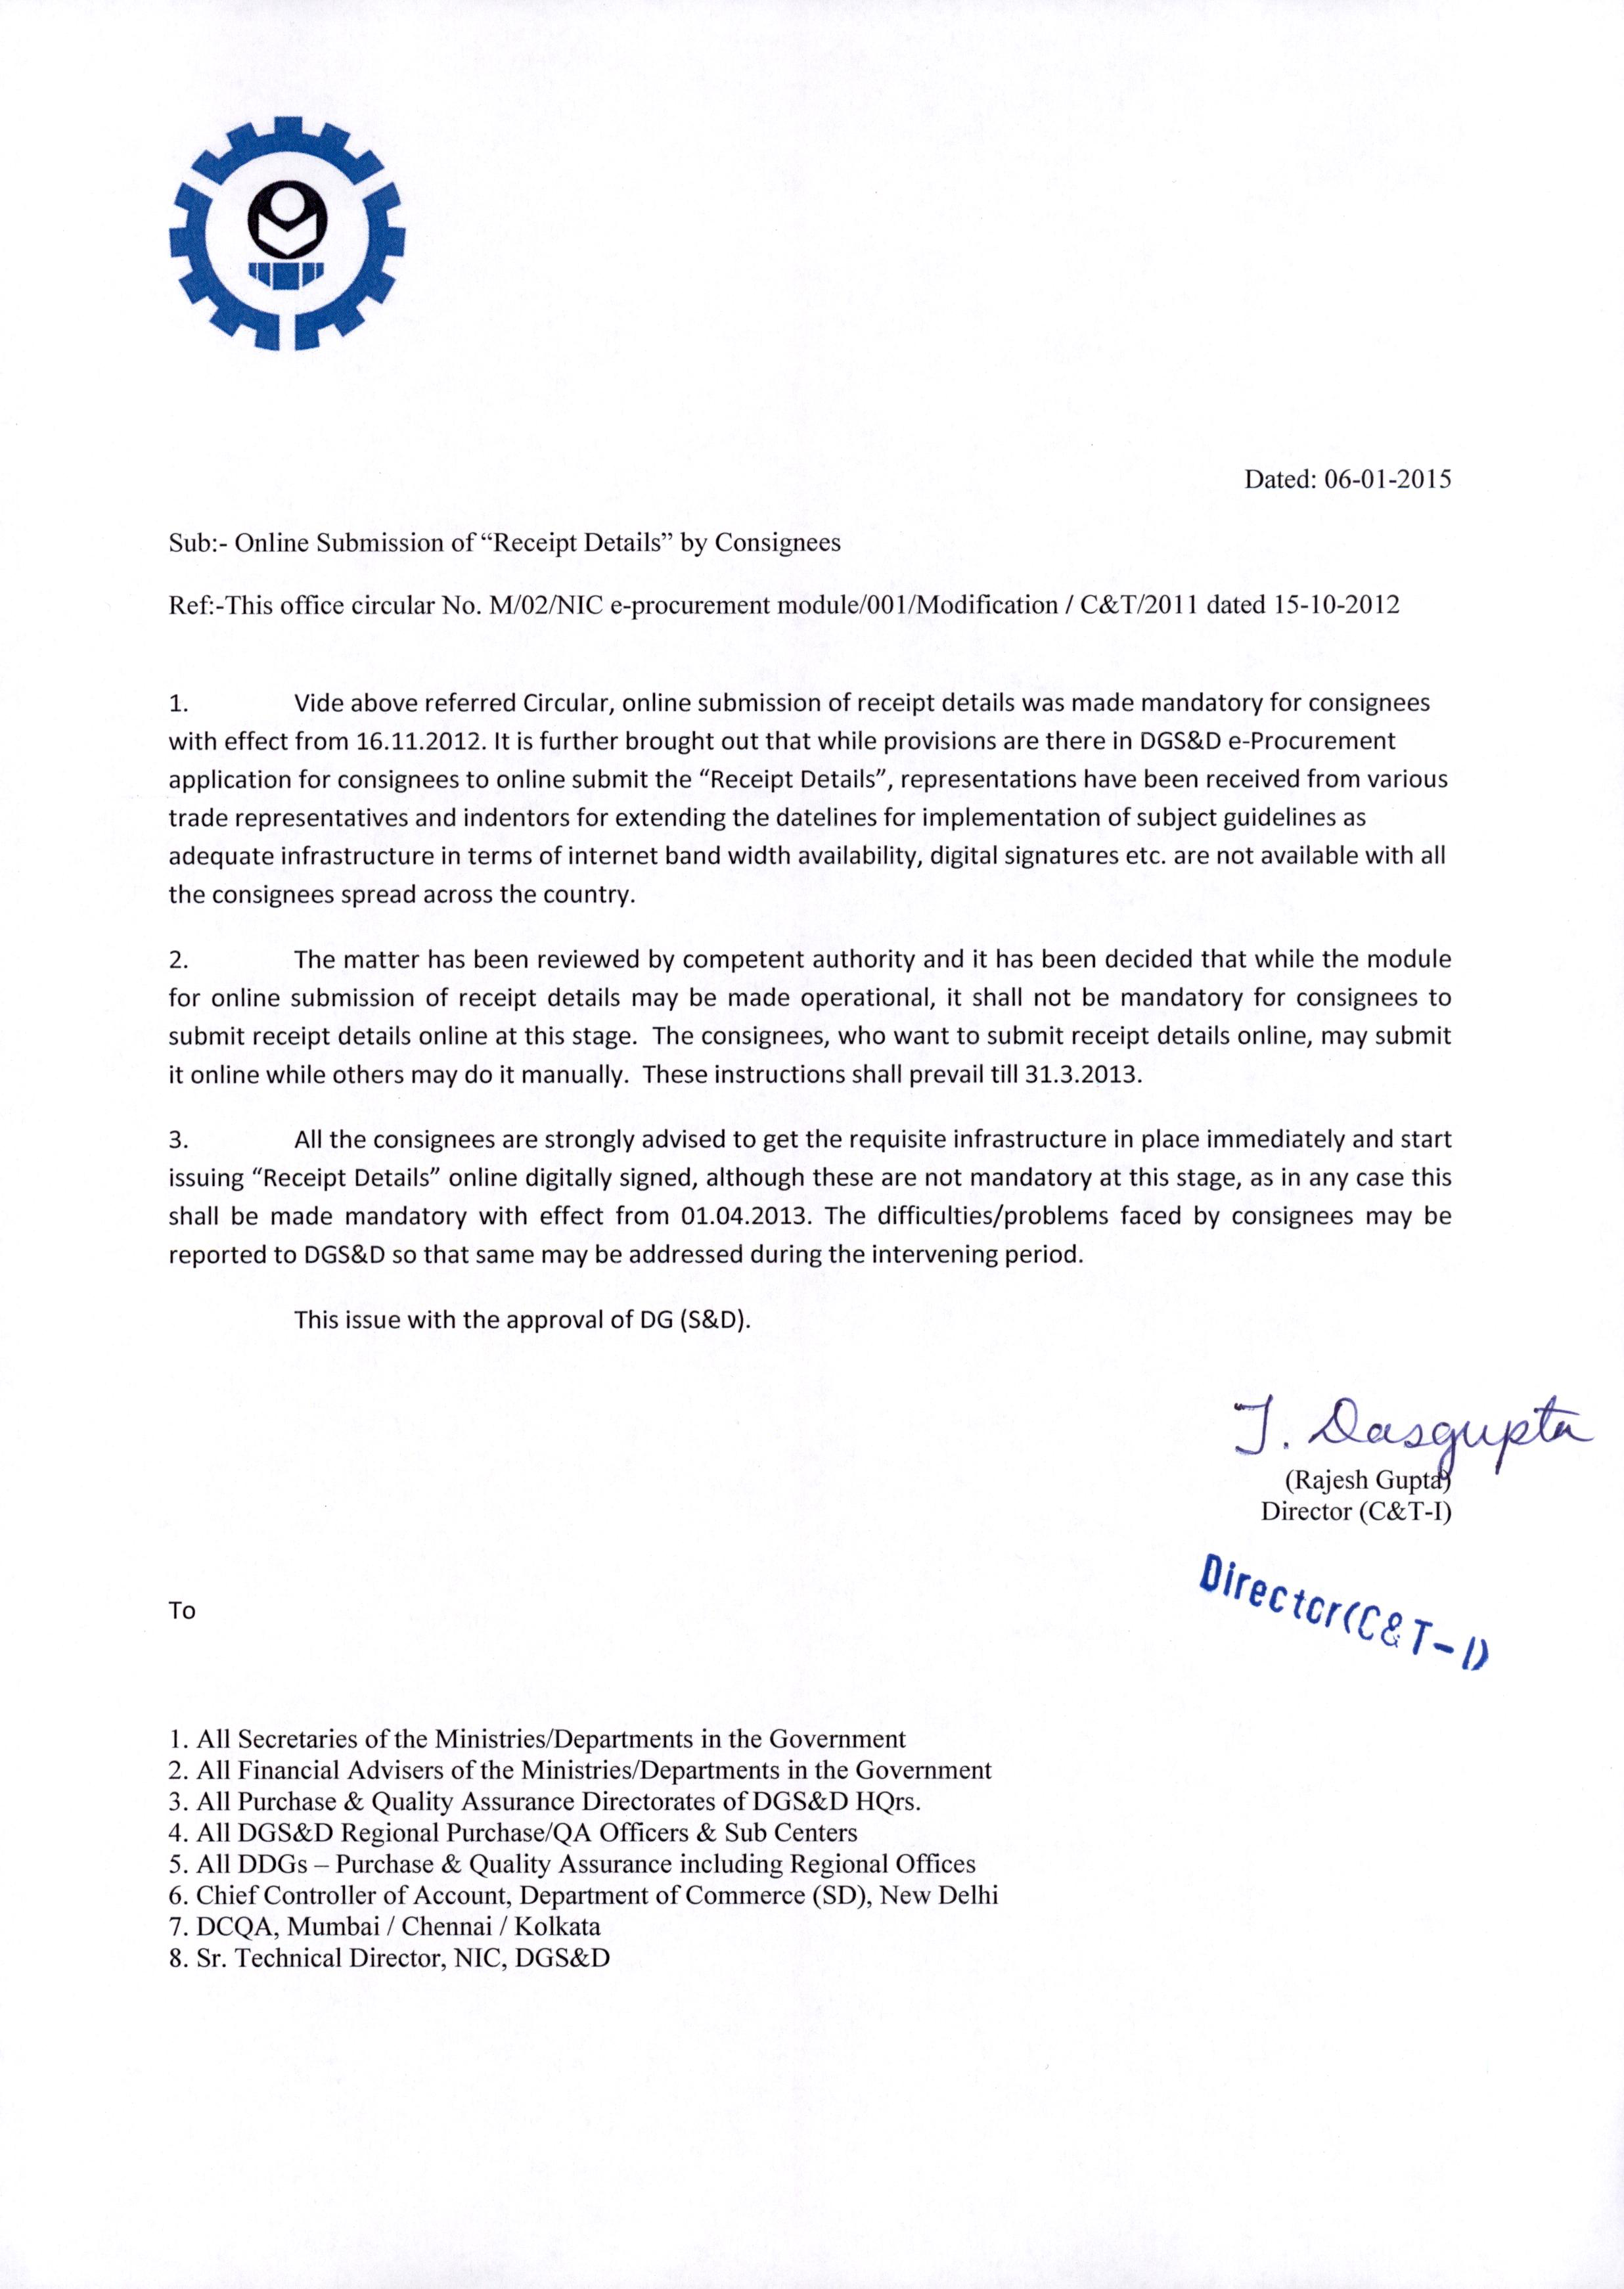Signature: (1222, 1387, 1601, 1471)
